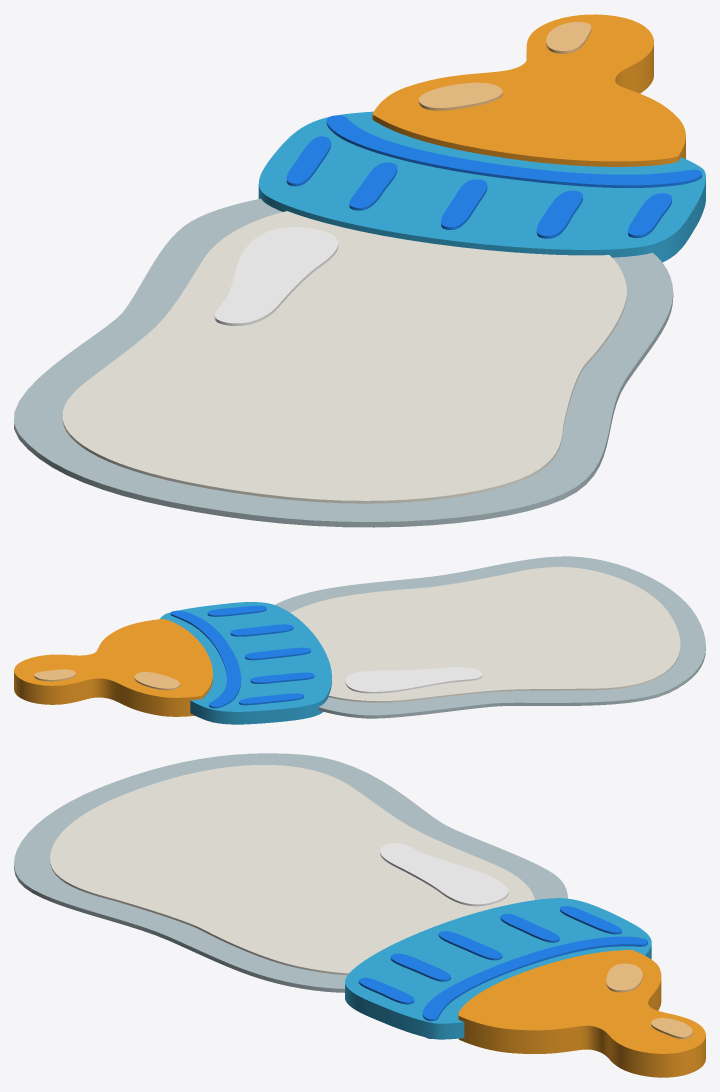
File: emoji_u1f37c.glb
3 renders of one model, top to bottom at view 1: azimuth 30°, elevation 25°; view 2: azimuth 150°, elevation 25°; view 3: azimuth 270°, elevation 25°, orthographic. The views are drawn at different scales.
Visible parts, largest first — view 1: emoji_u1f37c; view 2: emoji_u1f37c; view 3: emoji_u1f37c.
Boxes of the visible parts, x1,y1,x2,y2 form: emoji_u1f37c: (14, 14, 705, 527); emoji_u1f37c: (14, 556, 705, 724); emoji_u1f37c: (14, 753, 705, 1077).
Size of the model in its own units: 0.0336 by 0.0014 by 0.0317.
